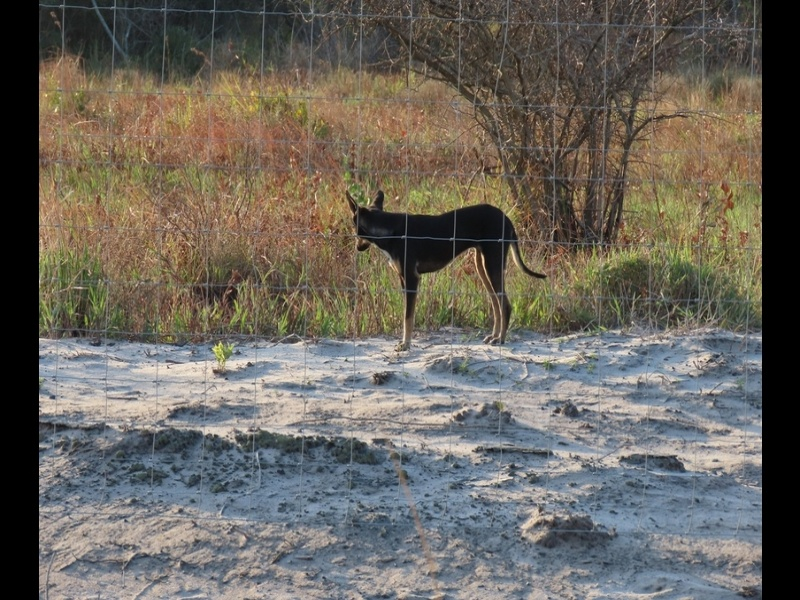dog: (341, 188, 554, 355)
